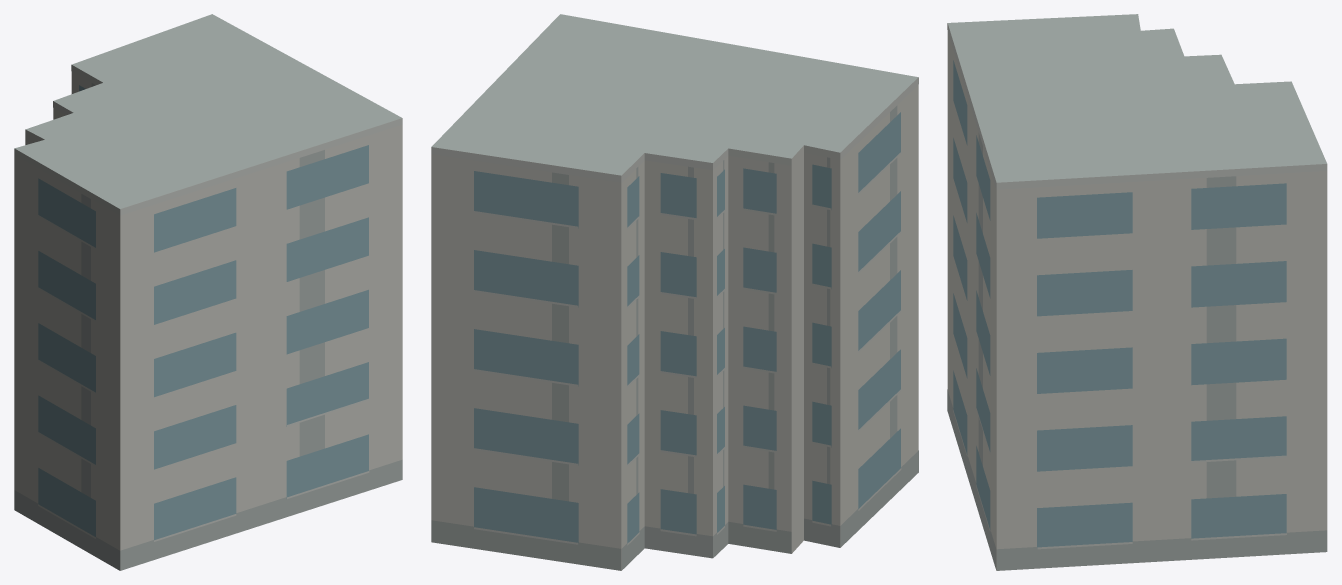
Rendered from survey-upis-32858021.glb.
The picture shows the model from 3 angles, left to right: view 1: azimuth 30°, elevation 25°; view 2: azimuth 150°, elevation 25°; view 3: azimuth 270°, elevation 25°; orthographic projection. The views are drawn at different scales.
Visible parts, largest first — view 1: survey-upis-32858021.tmp; view 2: survey-upis-32858021.tmp; view 3: survey-upis-32858021.tmp.
Part boxes in pixels (bbox=[...]): survey-upis-32858021.tmp: bbox=[14, 14, 402, 570]; survey-upis-32858021.tmp: bbox=[431, 14, 918, 570]; survey-upis-32858021.tmp: bbox=[947, 14, 1327, 570].
Size of the model in its own units: 12.31 by 13.2 by 11.71.
